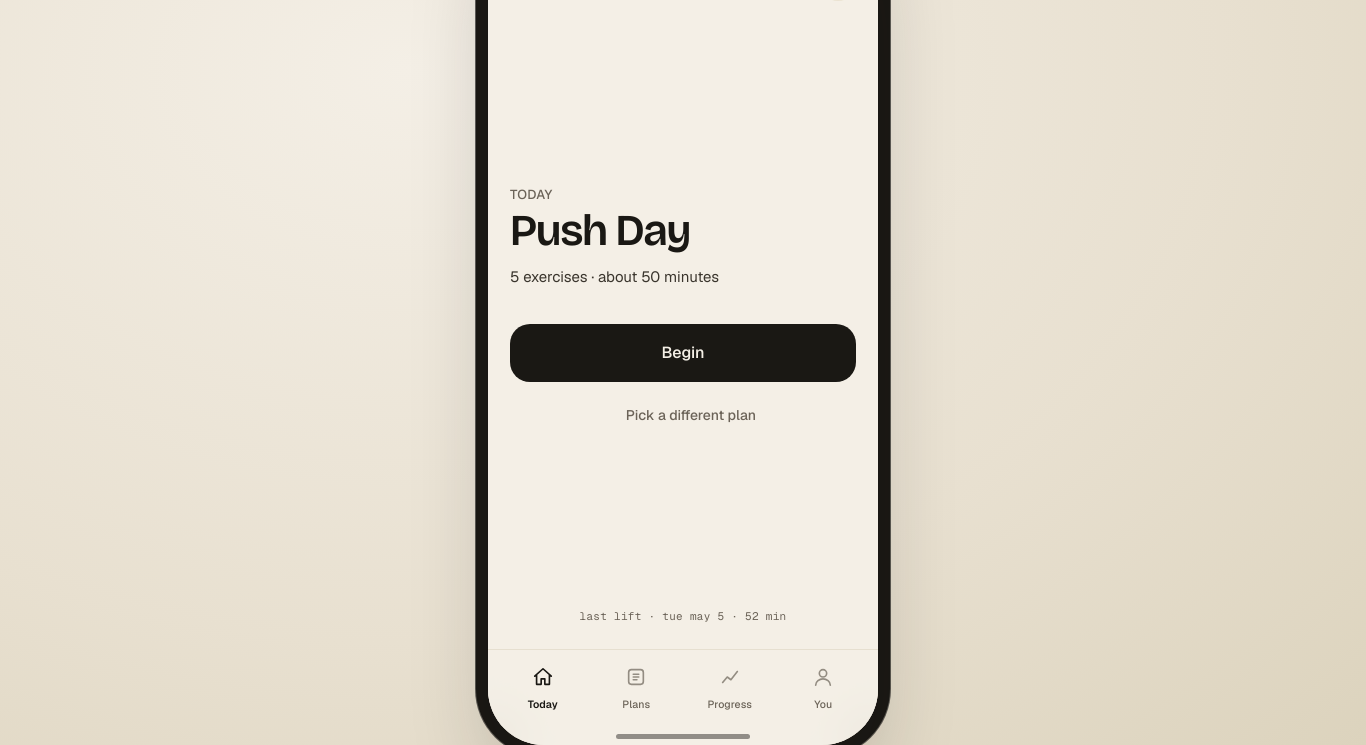
Scenario: App › should navigate to Progress page when Progress tab is clicked
(page scrolled)
Click the button "Progress" at (730, 688), box top-left (683, 658), bottom-right (776, 719)
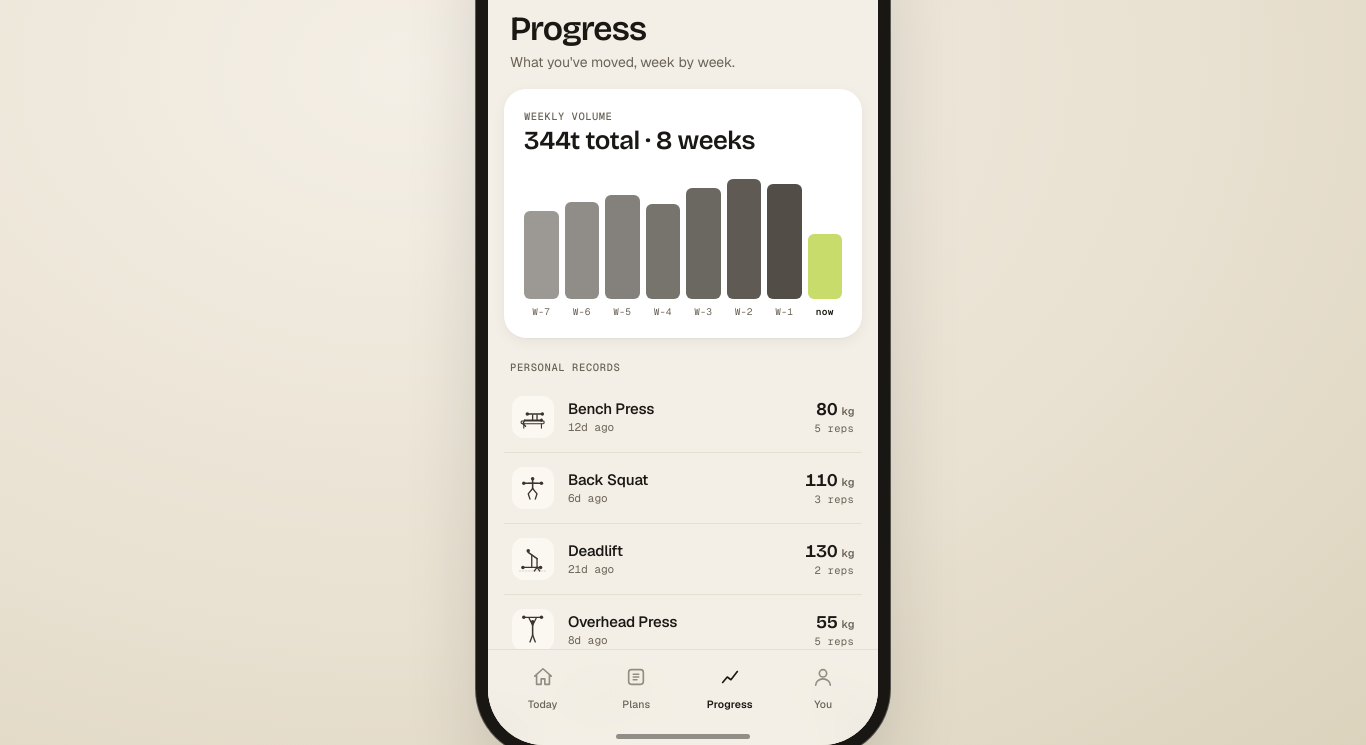
Result: the text "Personal records" is shown at top-left (510, 360), bottom-right (620, 374)
